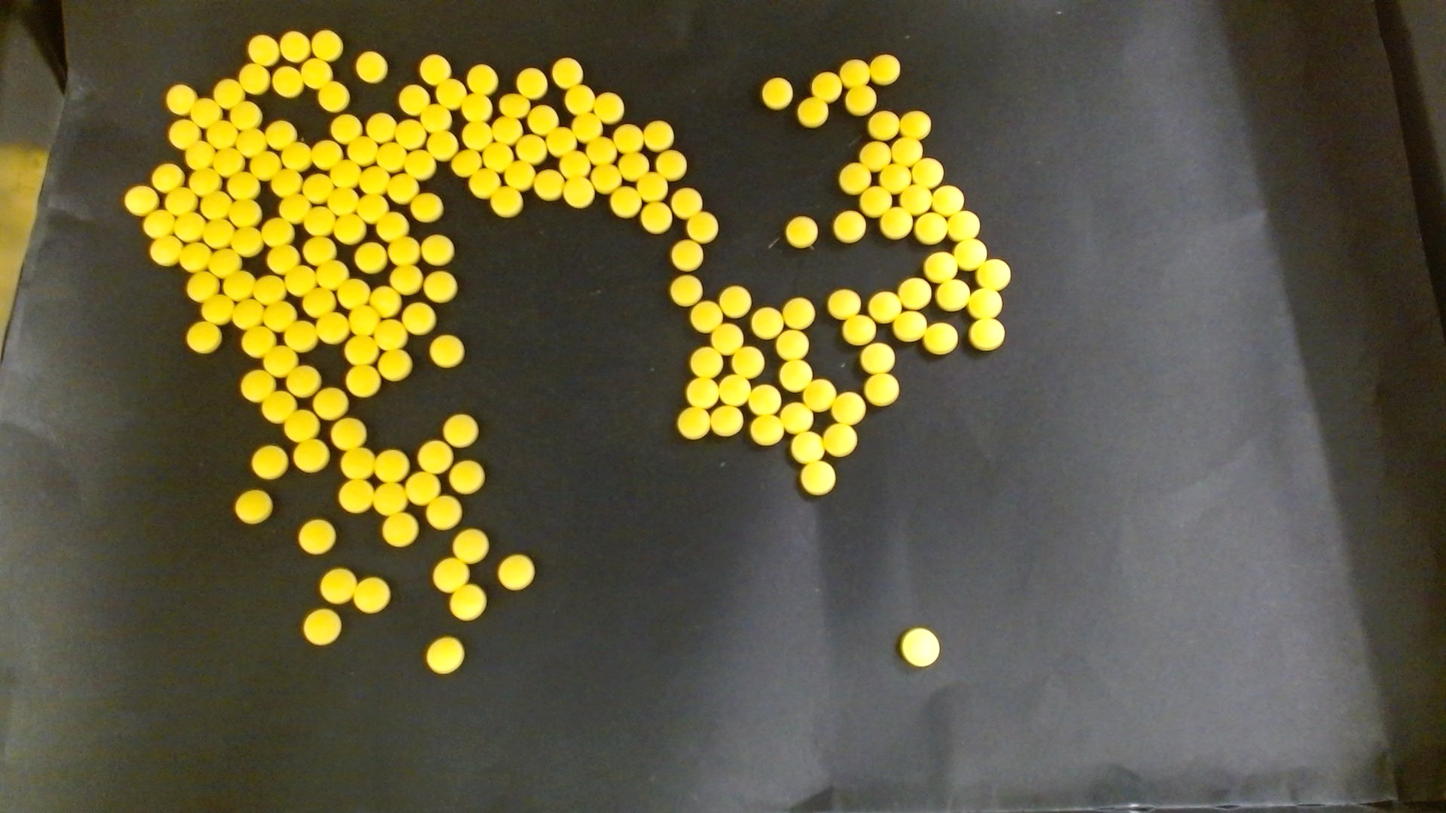Circle: (893, 625, 940, 671), (426, 636, 464, 674), (303, 608, 341, 646), (233, 489, 273, 525), (497, 553, 535, 590), (798, 459, 836, 496), (298, 519, 336, 556), (337, 447, 377, 482), (450, 583, 487, 620), (353, 577, 390, 614), (286, 363, 322, 401), (319, 568, 356, 604), (968, 316, 1005, 352), (251, 444, 288, 480), (292, 438, 329, 473), (300, 286, 338, 320), (432, 557, 468, 592), (382, 512, 418, 547), (426, 495, 462, 530), (449, 459, 484, 495), (338, 478, 374, 513), (406, 470, 442, 505), (186, 320, 222, 355), (689, 346, 724, 382), (221, 269, 259, 302), (429, 333, 464, 368), (372, 481, 407, 516), (783, 215, 819, 249), (975, 257, 1011, 291), (377, 347, 413, 381), (261, 389, 297, 423), (239, 369, 275, 403), (301, 205, 337, 239), (166, 119, 205, 150), (923, 321, 958, 355), (453, 529, 488, 563), (935, 277, 970, 311), (443, 413, 477, 448), (676, 406, 711, 440), (831, 391, 866, 425), (952, 236, 987, 270), (488, 184, 523, 218), (331, 416, 366, 450), (284, 263, 318, 298), (233, 127, 270, 159), (898, 276, 932, 310), (184, 139, 218, 173), (865, 373, 900, 406), (892, 309, 927, 342), (860, 342, 895, 375), (822, 423, 857, 456), (418, 440, 453, 473), (345, 364, 380, 397), (313, 388, 348, 421), (284, 410, 319, 443), (253, 274, 289, 306), (791, 431, 825, 464), (750, 413, 784, 446), (842, 313, 876, 346), (718, 285, 752, 318), (779, 358, 813, 391), (353, 50, 387, 83), (752, 306, 786, 339), (731, 345, 765, 378), (420, 233, 454, 266), (373, 318, 407, 351), (180, 241, 214, 274), (923, 251, 958, 283), (969, 286, 1004, 318), (685, 376, 720, 408), (344, 333, 379, 365), (148, 234, 183, 266), (123, 184, 158, 216), (588, 163, 623, 195), (265, 120, 300, 152), (266, 244, 302, 275), (227, 198, 263, 229), (226, 170, 262, 201), (914, 212, 947, 245), (711, 321, 744, 354), (310, 29, 343, 62), (685, 210, 718, 243), (374, 449, 407, 482), (670, 187, 703, 220), (186, 269, 219, 302), (300, 56, 333, 89), (375, 140, 408, 173), (200, 188, 233, 221), (931, 183, 965, 215), (717, 374, 751, 406), (748, 384, 782, 416), (776, 329, 810, 361), (401, 301, 435, 333), (231, 297, 265, 329), (200, 293, 234, 325), (409, 191, 443, 223), (189, 97, 223, 129), (301, 173, 335, 205), (149, 162, 184, 193), (387, 236, 422, 267), (310, 139, 345, 170), (163, 186, 199, 216), (833, 210, 866, 242), (782, 297, 815, 329), (868, 291, 901, 323), (670, 239, 703, 271), (803, 379, 836, 411), (780, 401, 813, 433), (945, 210, 978, 242), (898, 183, 931, 215), (640, 201, 673, 233), (423, 271, 456, 303), (367, 283, 399, 316), (242, 324, 275, 356), (264, 344, 297, 376), (316, 311, 349, 343), (353, 241, 386, 273), (142, 207, 175, 239), (333, 212, 365, 245), (584, 136, 617, 168), (365, 112, 398, 144), (213, 147, 246, 179), (827, 288, 861, 319), (389, 263, 423, 294), (207, 248, 241, 279), (248, 151, 282, 182), (201, 218, 235, 249), (187, 168, 223, 197), (760, 77, 792, 109), (859, 185, 891, 217), (419, 53, 451, 85), (271, 66, 303, 98), (610, 186, 642, 218), (349, 304, 381, 336), (315, 258, 347, 290), (612, 123, 644, 155), (572, 111, 604, 143), (868, 109, 901, 140), (911, 157, 944, 188), (468, 167, 501, 198), (231, 226, 264, 257), (302, 234, 335, 265), (336, 278, 369, 309), (355, 191, 388, 222), (490, 115, 523, 146), (347, 136, 380, 167), (325, 186, 359, 216), (205, 120, 239, 150), (868, 54, 900, 85), (845, 84, 877, 115), (880, 206, 912, 237), (670, 274, 701, 306), (551, 57, 582, 89), (691, 300, 723, 331), (515, 67, 547, 98), (879, 162, 911, 193), (247, 34, 279, 65), (282, 321, 314, 352), (505, 165, 537, 196), (261, 217, 293, 248), (278, 192, 310, 223), (459, 92, 491, 123), (435, 77, 467, 108), (712, 404, 743, 436), (229, 99, 261, 130), (395, 118, 426, 150), (238, 62, 269, 94), (329, 158, 361, 189), (263, 300, 296, 330), (374, 211, 407, 241), (316, 81, 349, 111), (279, 31, 310, 62), (466, 64, 497, 95), (643, 120, 674, 151), (386, 173, 417, 204), (404, 148, 435, 179), (527, 103, 558, 134), (482, 141, 513, 172), (655, 149, 686, 180), (515, 133, 546, 164), (398, 84, 429, 115), (450, 147, 481, 178), (175, 212, 206, 243), (839, 163, 871, 193), (859, 140, 891, 170), (280, 140, 312, 170), (213, 78, 245, 108), (165, 84, 197, 114), (899, 110, 932, 139), (270, 168, 303, 197), (797, 96, 828, 126), (892, 136, 923, 166), (592, 93, 623, 123), (563, 177, 593, 208), (534, 169, 564, 200), (636, 171, 667, 201), (419, 102, 450, 132), (565, 84, 596, 114), (427, 130, 457, 160), (618, 151, 648, 181), (545, 127, 575, 157), (839, 58, 870, 87), (559, 149, 590, 178), (331, 114, 362, 143), (461, 120, 492, 149), (360, 167, 390, 196), (812, 72, 841, 101), (499, 93, 530, 119)
